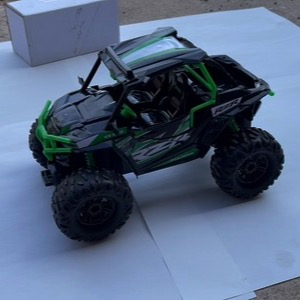polaris: (27, 23, 287, 245)
